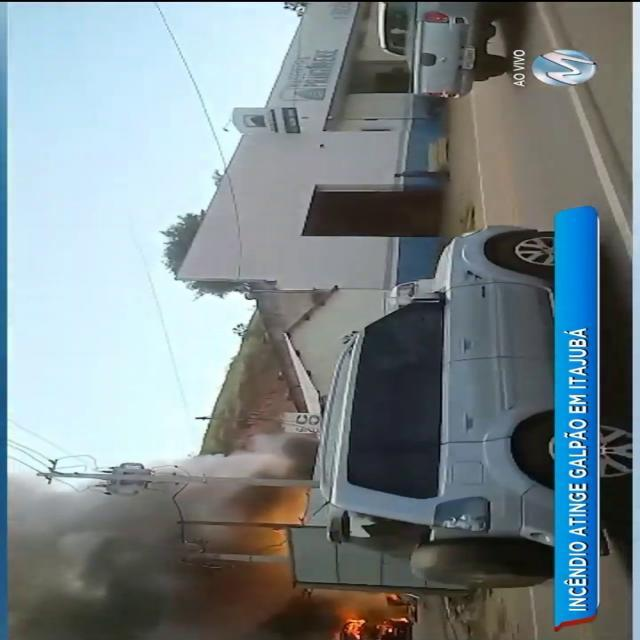Fire: (5, 433, 322, 638), (334, 617, 367, 640), (388, 616, 408, 623)
